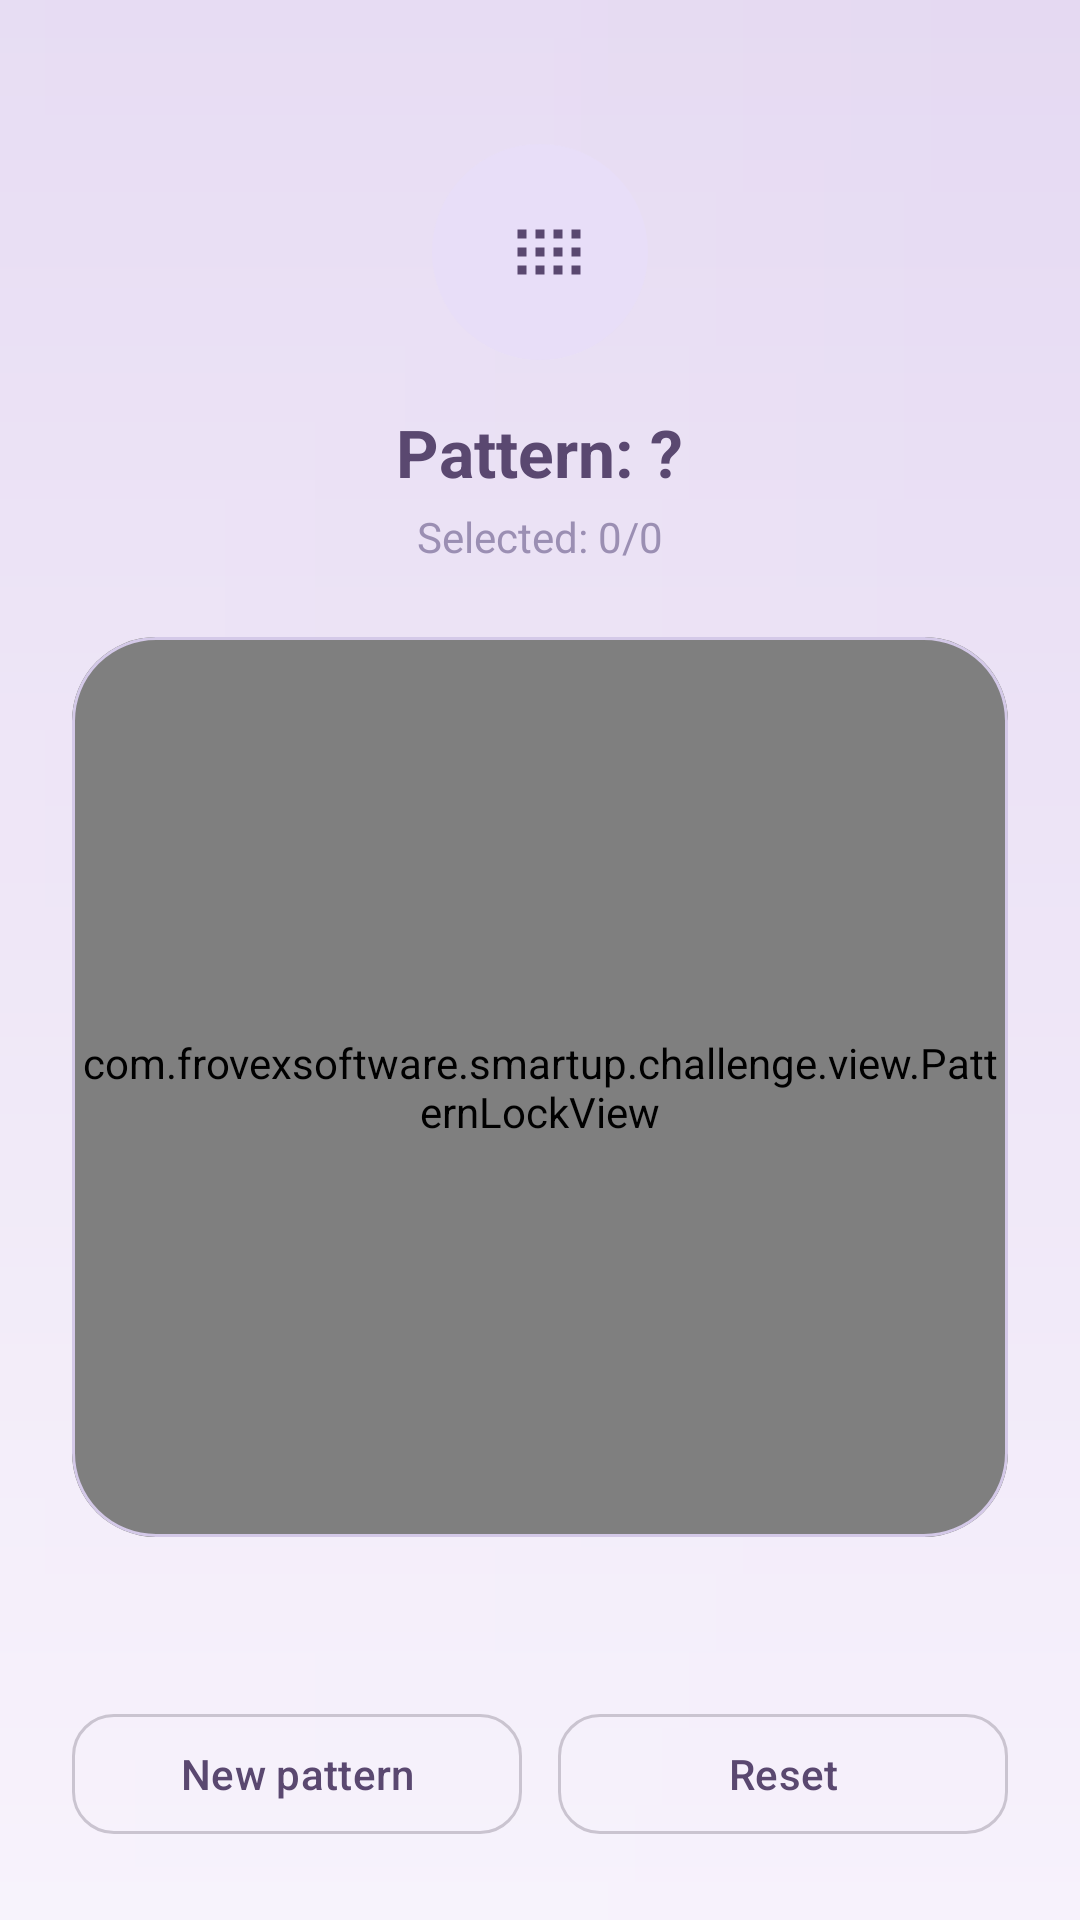

Icons on this 1080w x 1920h Android screen, each with the point to tap as point (x, y):
challenge dots: point (549, 252)
